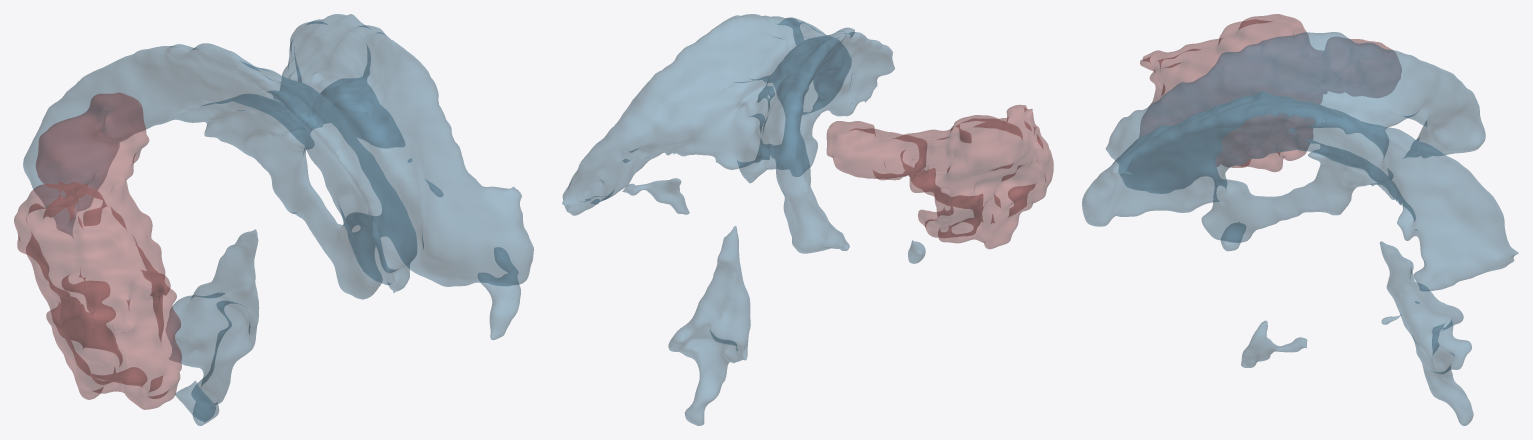
File: figure_1.glb
3 renders of one model, left to right at view 1: azimuth 30°, elevation 25°; view 2: azimuth 150°, elevation 25°; view 3: azimuth 270°, elevation 25°, orthographic. The views are drawn at different scales.
Visible parts, largest first — view 1: ventricles, hard_bleed; view 2: ventricles, hard_bleed; view 3: ventricles, hard_bleed.
Part boxes in pixels (box(x1,y1,x2,y2)): ventricles: box(23, 14, 533, 425); hard_bleed: box(14, 92, 181, 409); ventricles: box(562, 14, 925, 425); hard_bleed: box(826, 104, 1053, 249); ventricles: box(1082, 32, 1518, 425); hard_bleed: box(1139, 14, 1401, 172).
Bounding box in the file's own units: 90.54 × 78.69 × 85.46.
